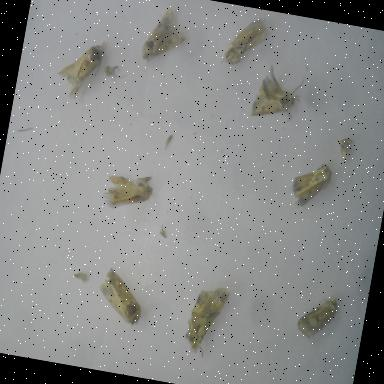abw: (178, 276, 234, 364), (50, 28, 110, 106), (248, 59, 310, 129), (138, 0, 195, 72), (92, 262, 152, 330), (218, 8, 272, 74), (98, 163, 158, 220), (286, 154, 338, 216), (292, 286, 343, 348)
